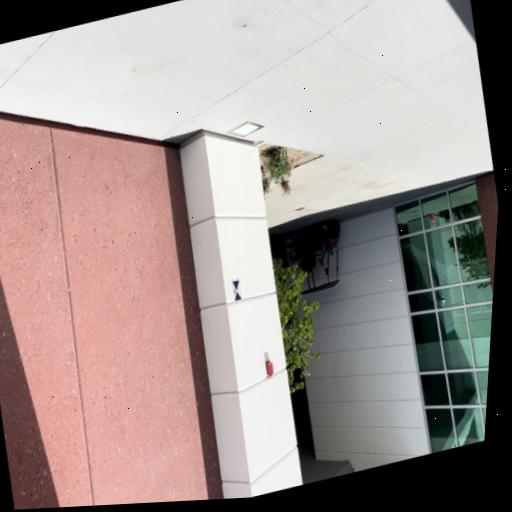target9: (231, 278, 243, 301)
